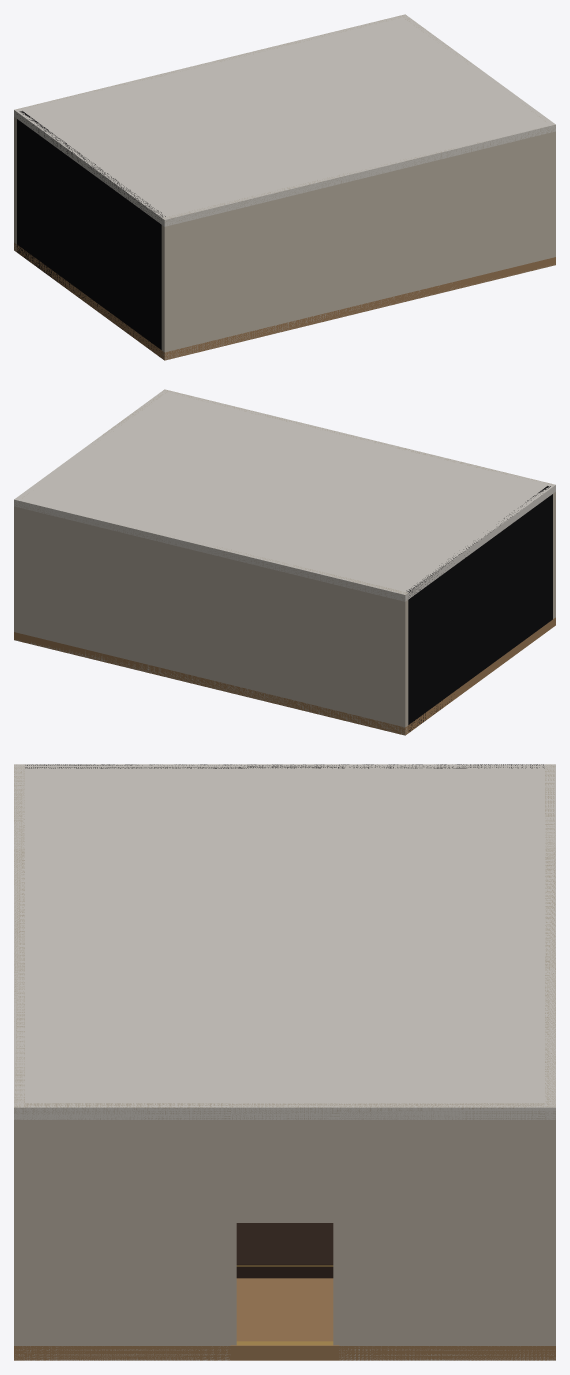
File: pvHome.glb
3 renders of one model, top to bottom at view 1: azimuth 30°, elevation 25°; view 2: azimuth 150°, elevation 25°; view 3: azimuth 270°, elevation 25°, orthographic. The views are drawn at different scales.
Visible parts, largest first — view 1: pvHome; view 2: pvHome; view 3: pvHome.
Part boxes in pixels (bbox=[...]): pvHome: bbox=[14, 14, 555, 360]; pvHome: bbox=[14, 389, 555, 735]; pvHome: bbox=[14, 764, 555, 1360].
Bounding box in the file's own units: 15 × 5.15 × 10.
